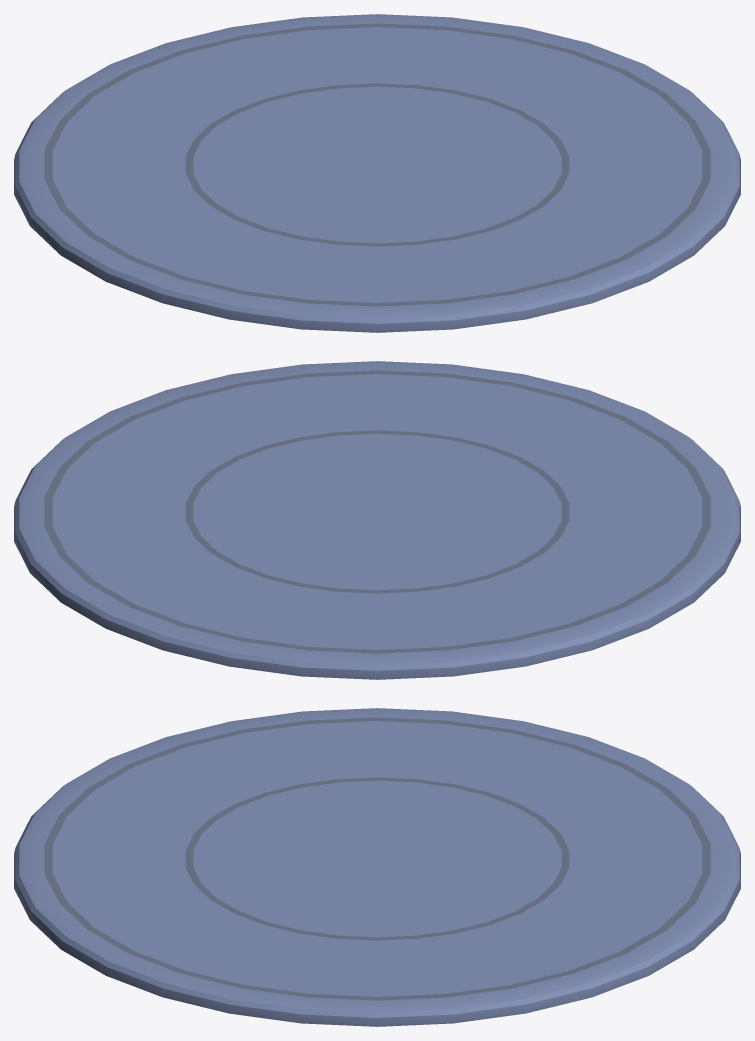
The model's file is Plato.FBX.
3 views of the same model, one above another, from view 1: azimuth 30°, elevation 25°; view 2: azimuth 150°, elevation 25°; view 3: azimuth 270°, elevation 25° (orthographic).
Visible parts, largest first — view 1: Plato; view 2: Plato; view 3: Plato.
Boxes of the visible parts, box(x1,y1,x2,y2) form: Plato: box(14, 14, 740, 332); Plato: box(14, 361, 740, 679); Plato: box(14, 708, 740, 1026).
Bounding box in the file's own units: 271 × 269 × 5.48.
